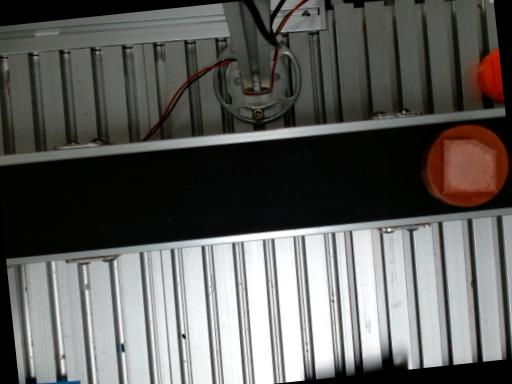Brown_Waper: (420, 124, 508, 207)
Not_Square: (441, 138, 497, 194)
